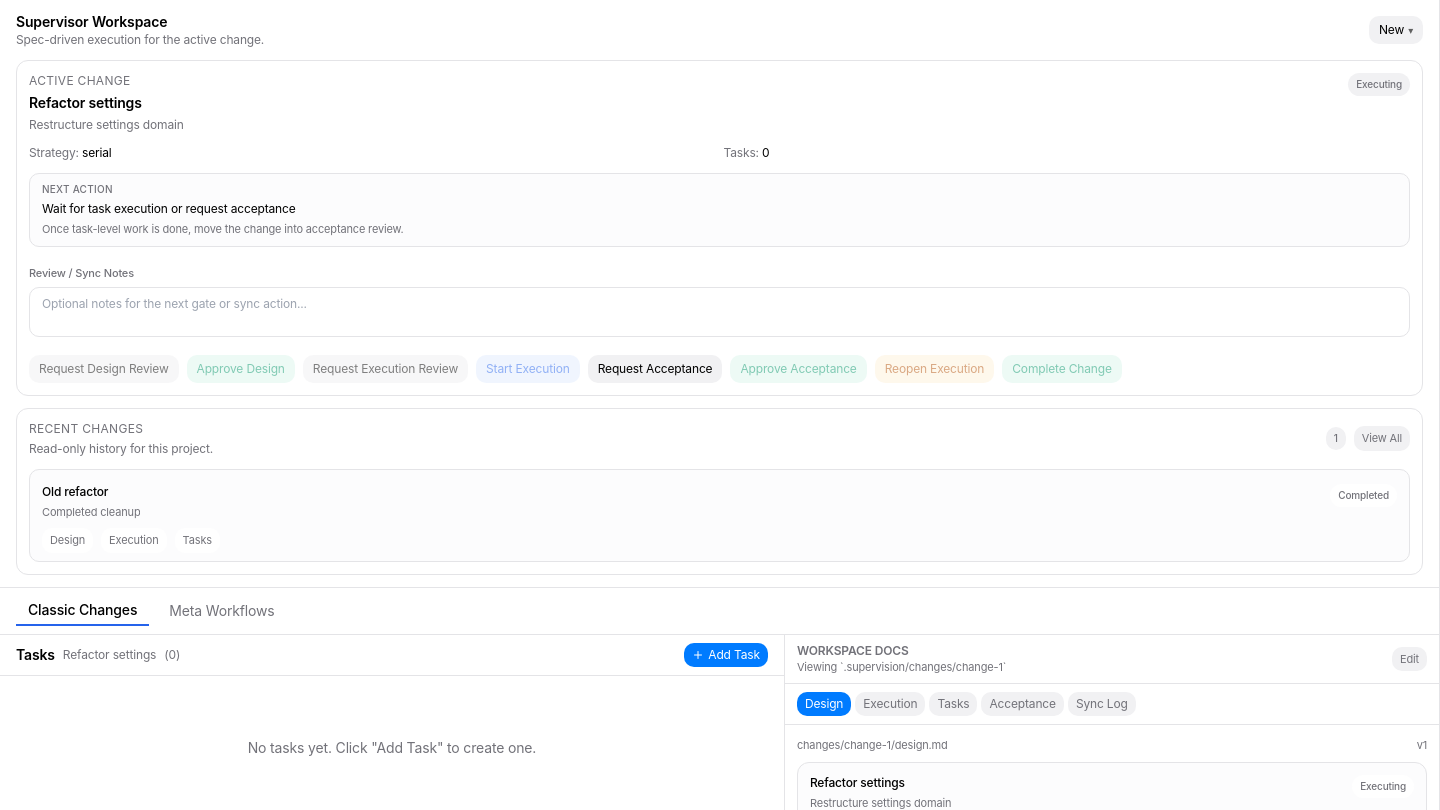
SupervisorWorkspacePanel › supports quick doc switches for historical changes
Expected: the text "Recent Changes" is shown, [29, 420, 143, 436]
Click the button with aria-label "Open Old refactor execution". click: point(134, 540)
box: [101, 528, 167, 552]
(page scrolled)
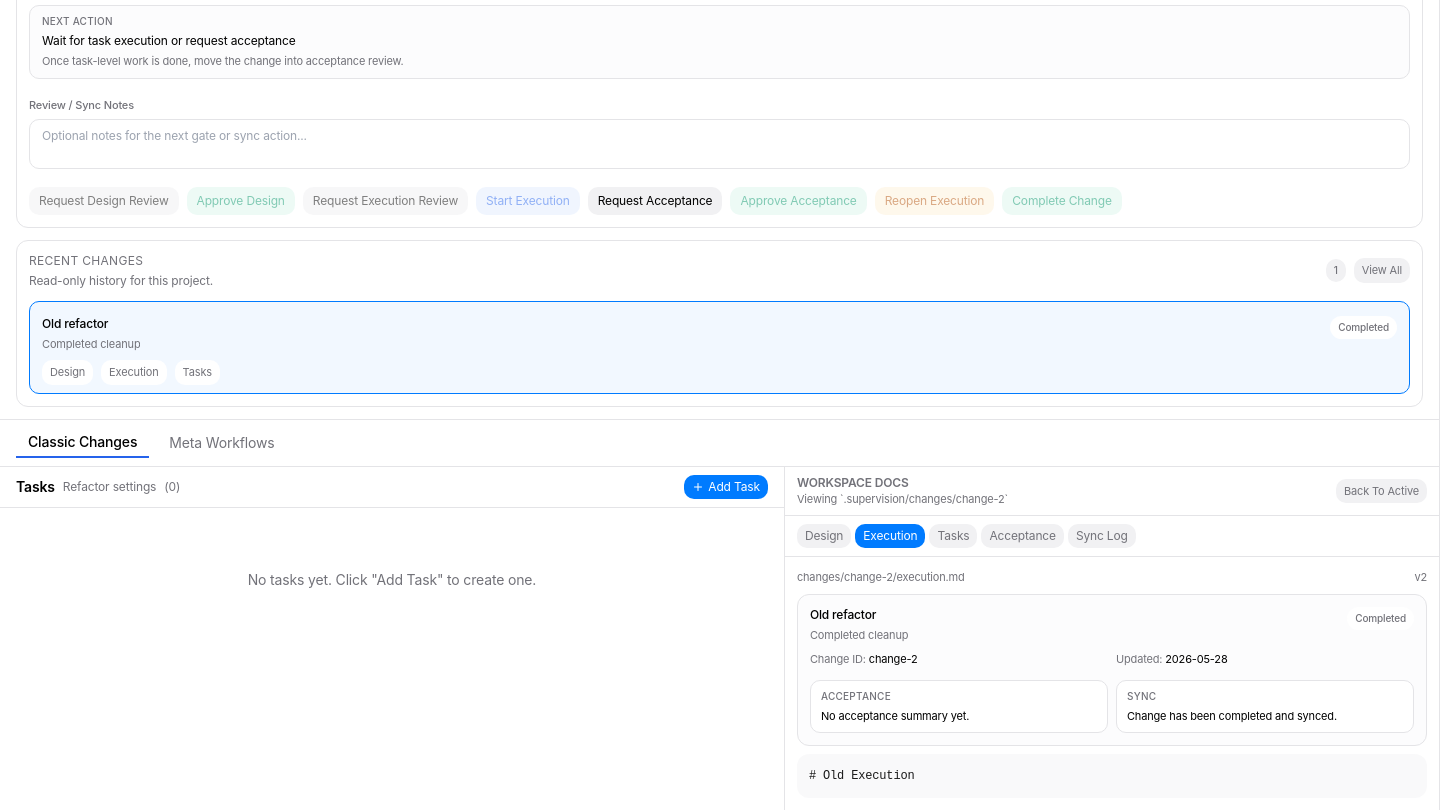
Now the text "Viewing `.supervision/changes/change-2`" is shown, box [797, 490, 1008, 507]
Now the text "# Old Execution" is shown, box [797, 754, 1427, 798]
